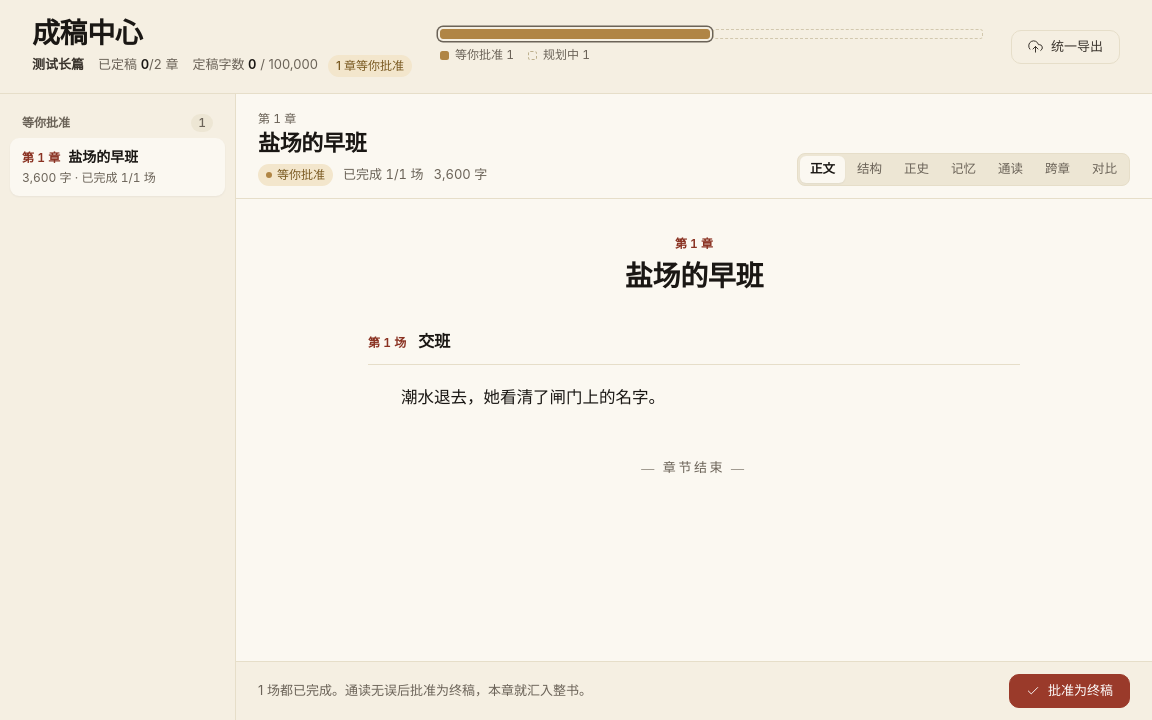
成稿中心权威章节流 › 硬质检会核对的候选写成中文叫法，并写明接受之后核对什么
Click the radio button with test id "manuscript-canon-tab": [916, 169] box top-left (894, 156), bottom-right (939, 183)
(page scrolled)
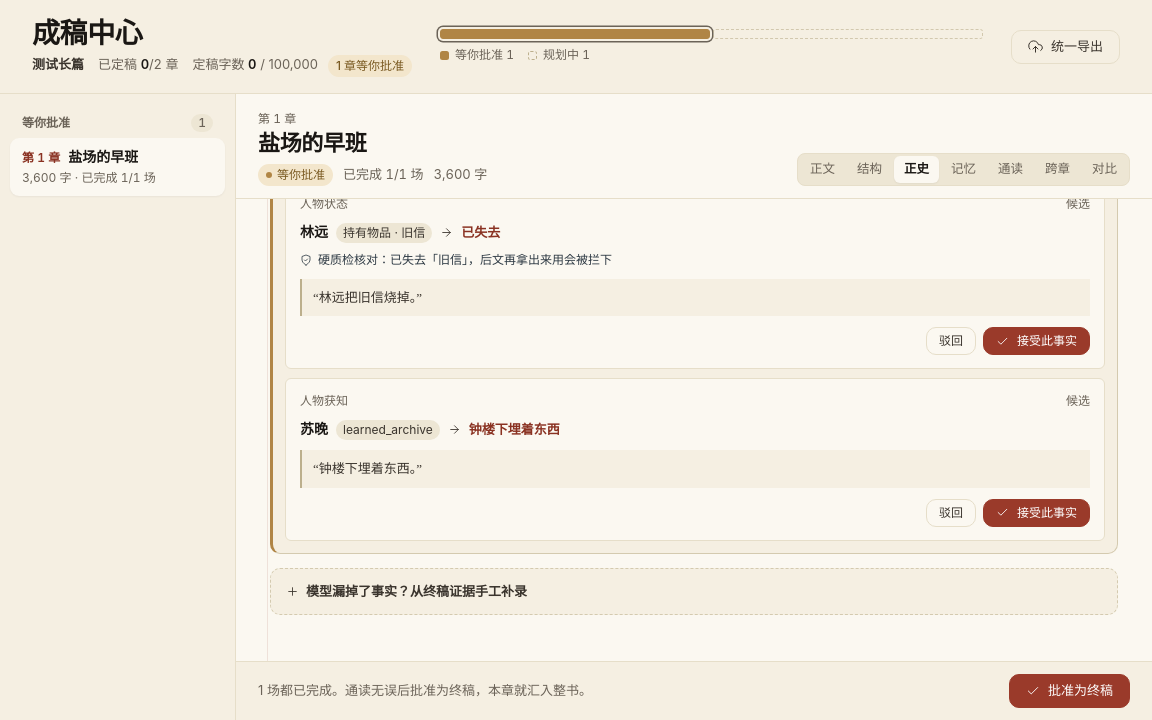
Check: the element with class "ms-canon-fact" reads "林远 持有物品 · 旧信 已失去", box top-left (300, 222), bottom-right (500, 242)
Check: the element with test id "canon-hard-check" shows "硬质检核对：已失去「旧信」", box top-left (300, 252), bottom-right (612, 267)
Check: the element with class "ms-canon-fact" reads "苏晚 learned_archive 钟楼下埋着东西", box top-left (300, 420), bottom-right (560, 440)
